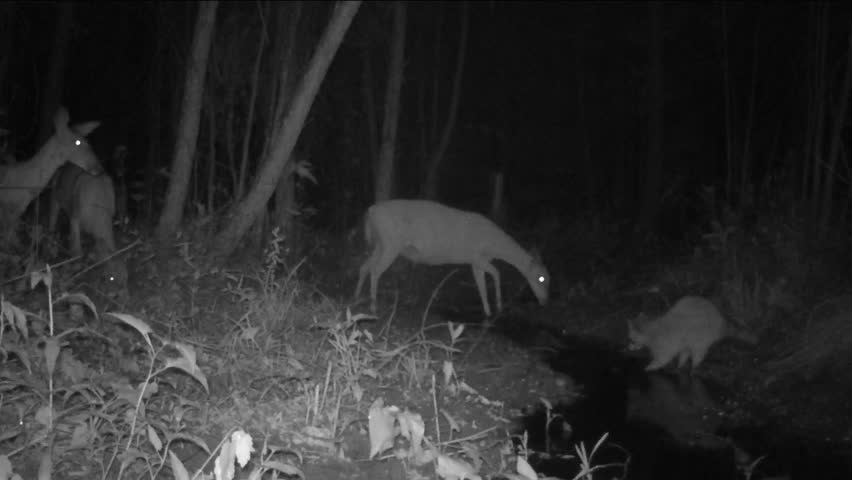deer: (321, 192, 610, 322), (56, 103, 132, 263), (3, 104, 61, 272)
raccoon: (650, 242, 717, 393)
